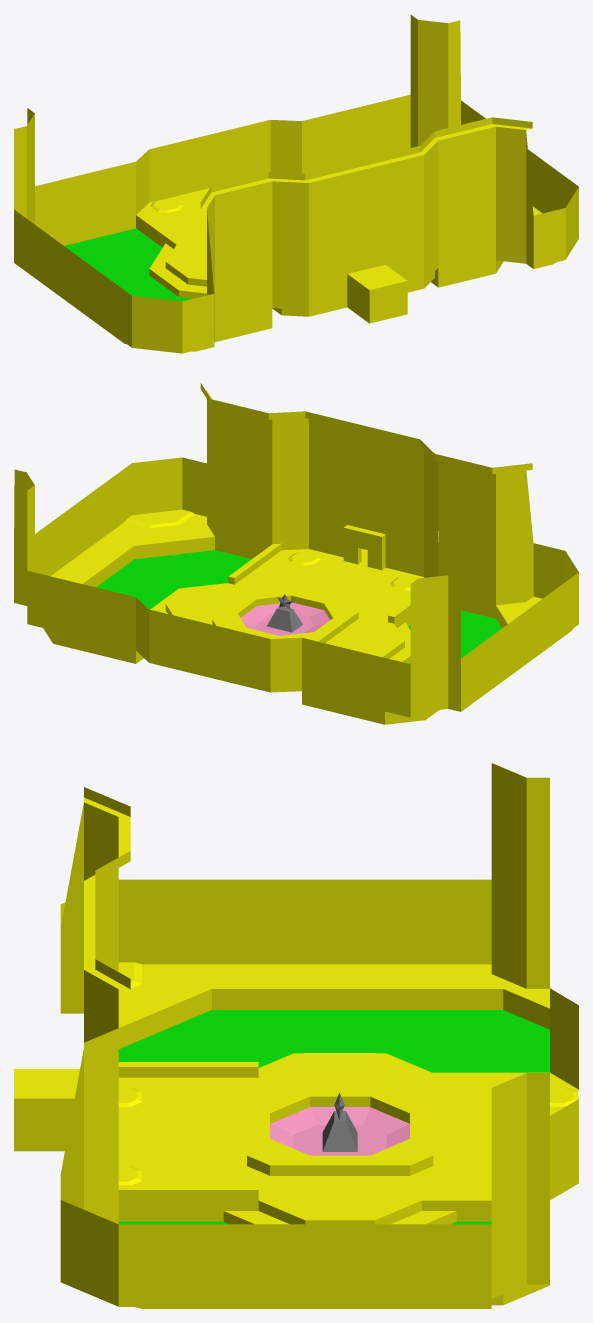
Rendered from castle_courtyard_segment7.0x059A8.collision.obj.
The picture shows the model from 3 angles, top to bottom: view 1: azimuth 30°, elevation 25°; view 2: azimuth 150°, elevation 25°; view 3: azimuth 270°, elevation 25°; orthographic projection. The views are drawn at different scales.
Parts seen in each view (by area): view 1: castle_courtyard_segment7_059A8_normal, castle_courtyard_segment7_059A8_grass; view 2: castle_courtyard_segment7_059A8_normal, castle_courtyard_segment7_059A8_grass, castle_courtyard_segment7_059A8_0D, castle_courtyard_segment7_059A8_wall; view 3: castle_courtyard_segment7_059A8_normal, castle_courtyard_segment7_059A8_grass, castle_courtyard_segment7_059A8_0D, castle_courtyard_segment7_059A8_wall.
Part boxes in pixels (x1=…): castle_courtyard_segment7_059A8_normal: x1=14, y1=15, x2=578, y2=353; castle_courtyard_segment7_059A8_grass: x1=64, y1=228, x2=192, y2=301; castle_courtyard_segment7_059A8_normal: x1=14, y1=383, x2=578, y2=724; castle_courtyard_segment7_059A8_grass: x1=96, y1=550, x2=501, y2=663; castle_courtyard_segment7_059A8_0D: x1=241, y1=602, x2=329, y2=635; castle_courtyard_segment7_059A8_wall: x1=266, y1=594, x2=302, y2=632; castle_courtyard_segment7_059A8_normal: x1=14, y1=763, x2=578, y2=1308; castle_courtyard_segment7_059A8_grass: x1=118, y1=1010, x2=549, y2=1224; castle_courtyard_segment7_059A8_0D: x1=270, y1=1107, x2=409, y2=1155; castle_courtyard_segment7_059A8_wall: x1=322, y1=1093, x2=357, y2=1151.
Bounding box in the file's own units: 7 × 2.3 × 4.85.
